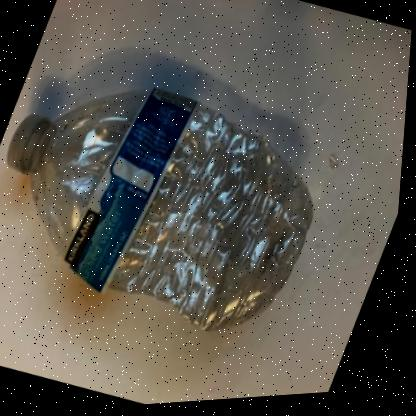Plastic: (10, 90, 316, 332)
